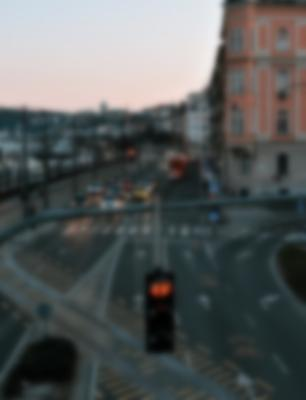International Road Signal Light: (143, 269, 176, 353)
